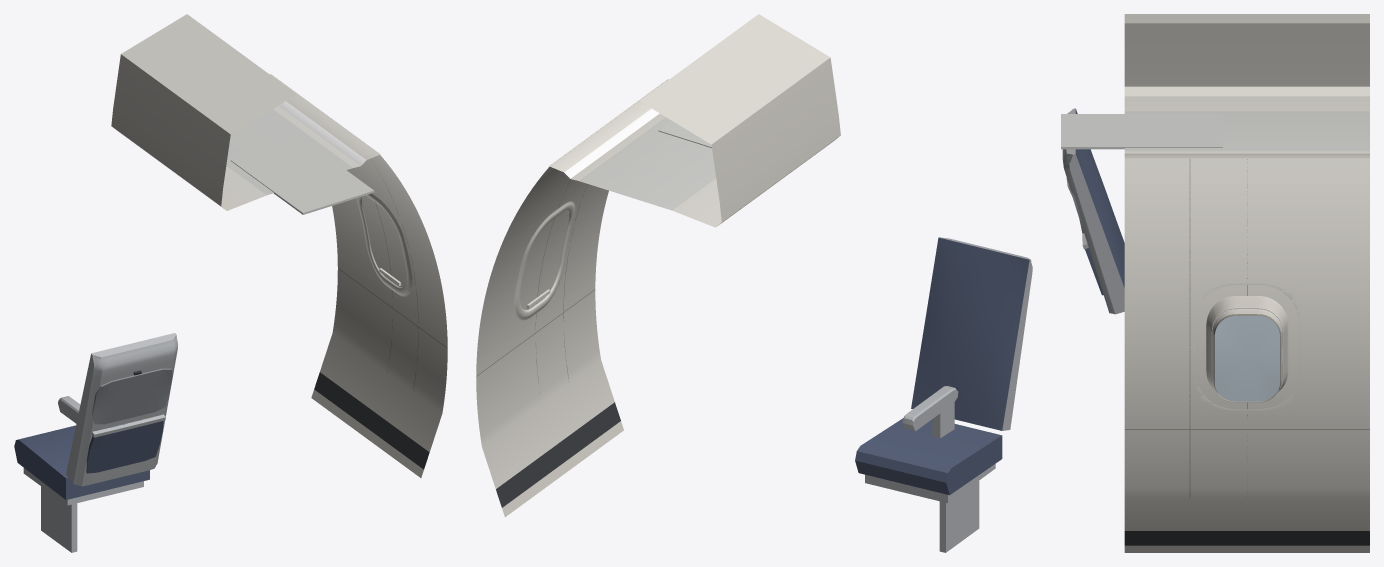
The model's file is cabin.glb.
The picture shows the model from 3 angles, left to right: view 1: azimuth 30°, elevation 25°; view 2: azimuth 150°, elevation 25°; view 3: azimuth 270°, elevation 25°; orthographic projection. The views are drawn at different scales.
Visible parts, largest first — view 1: Bin, Filler, Seat, Bay, Psu; view 2: Bin, Filler, Seat, Bay, Armrest; view 3: Filler, Bay, Bin, Psu, Seat, PaneOuter.
Part boxes in pixels (left/top/right/bottom): Bin: left=111, top=14, right=380, bottom=210; Filler: left=311, top=155, right=447, bottom=477; Seat: left=14, top=333, right=177, bottom=552; Bay: left=340, top=159, right=418, bottom=455; Psu: left=230, top=137, right=374, bottom=214; Bin: left=549, top=14, right=840, bottom=227; Filler: left=476, top=166, right=623, bottom=517; Seat: left=855, top=237, right=1032, bottom=552; Bay: left=507, top=171, right=591, bottom=493; Armrest: left=902, top=386, right=958, bottom=438; Filler: left=1124, top=158, right=1369, bottom=552; Bay: left=1189, top=158, right=1304, bottom=552; Bin: left=1124, top=14, right=1369, bottom=158; Psu: left=1061, top=114, right=1222, bottom=149; Seat: left=1062, top=108, right=1124, bottom=314; PaneOuter: left=1214, top=316, right=1279, bottom=401.
Size of the model in its own units: 2.09 by 2.08 by 1.26.
